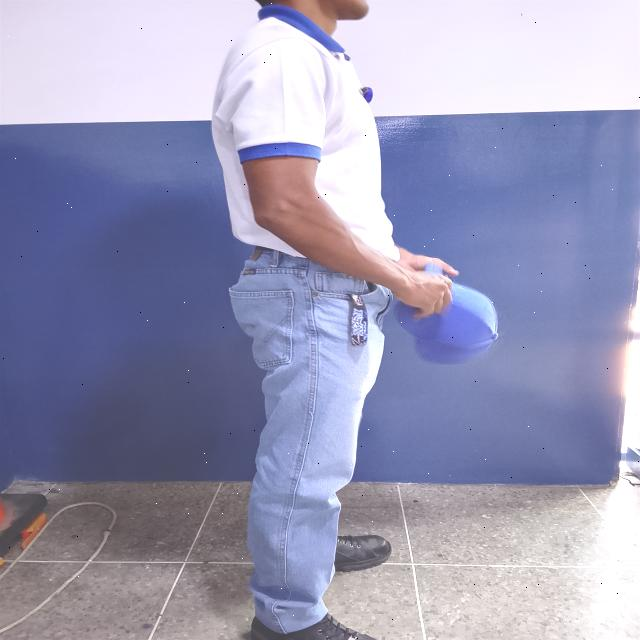uniforme_superior: (211, 4, 401, 260)
